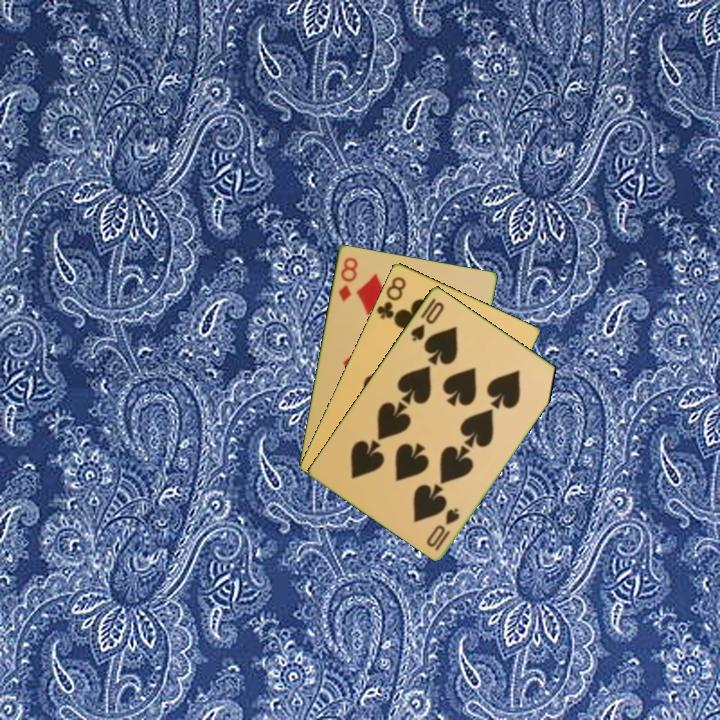10s: (423, 504, 463, 553), (407, 298, 447, 344)
8c: (373, 272, 409, 322)
8d: (334, 253, 360, 304)
